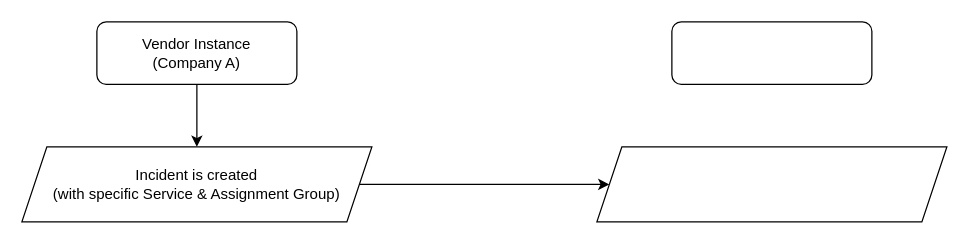
Image size: 969x244. Some labels were removed from this diagram. The shapes that lost their labels are listed below. From the top down, each one's centre as x and y in pixels, then its label:
the point at 771,52: Customer Instance (Company B)
the point at 771,184: Copy of Incident is created (with specific Assignment Group)
